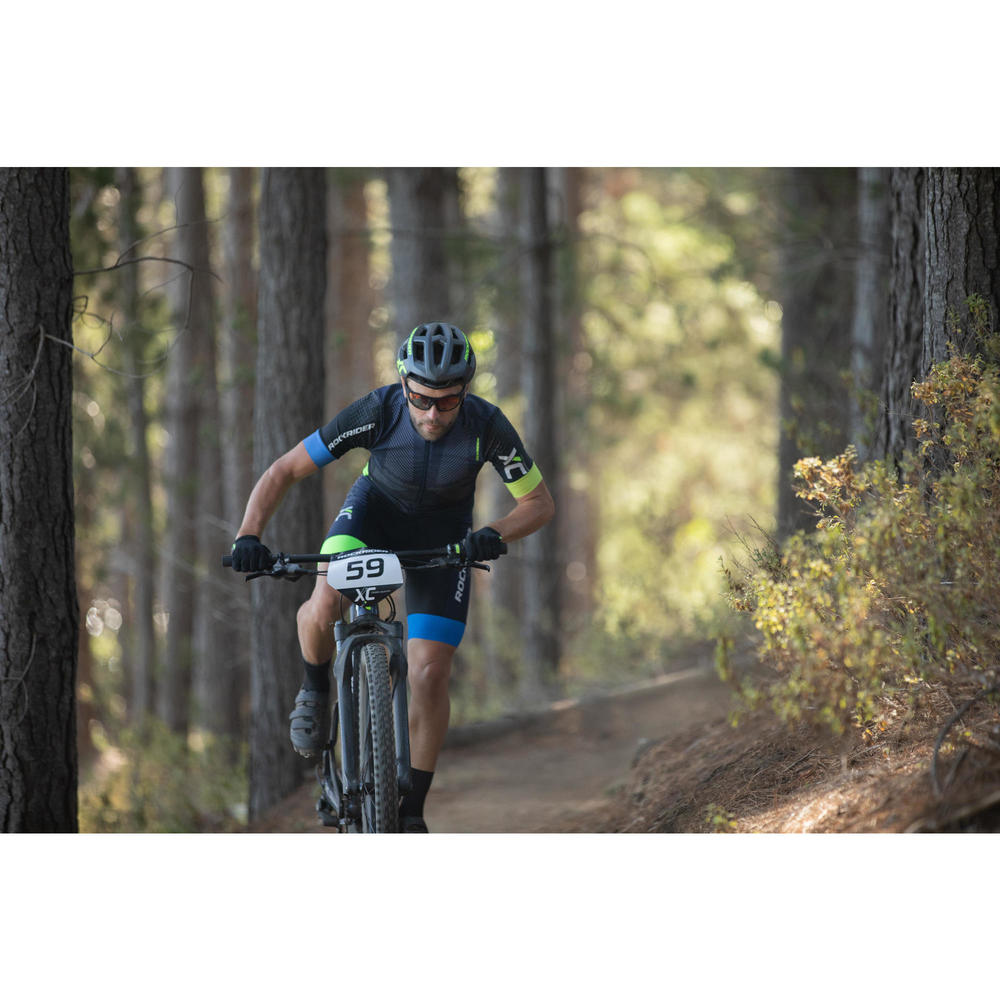MountainBike: (205, 521, 556, 851)
